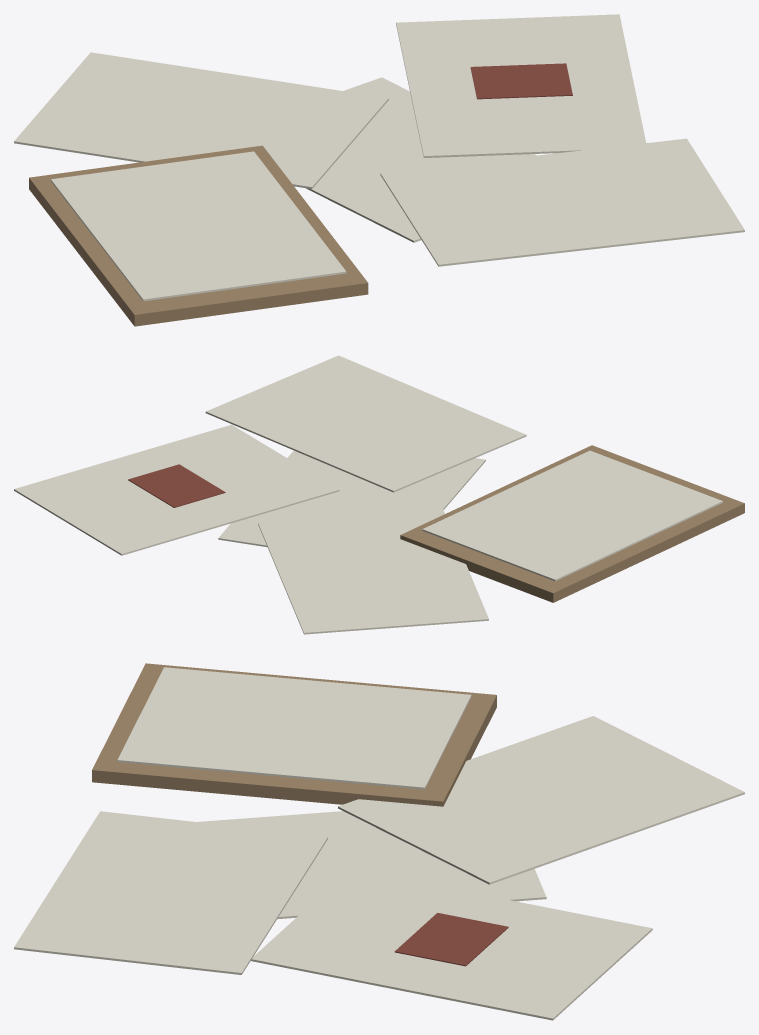
Rendered from prop_debris_papers.fbx.
3 renders of one model, top to bottom at view 1: azimuth 30°, elevation 25°; view 2: azimuth 150°, elevation 25°; view 3: azimuth 270°, elevation 25°, orthographic. The views are drawn at different scales.
Visible parts, largest first — view 1: prop_debris_papers; view 2: prop_debris_papers; view 3: prop_debris_papers.
Boxes of the visible parts, <box> form: prop_debris_papers: <box>14,14,744,326</box>; prop_debris_papers: <box>14,355,744,634</box>; prop_debris_papers: <box>14,663,744,1020</box>.
Size of the model in its own units: 0.7337 by 0.017 by 0.6511.
